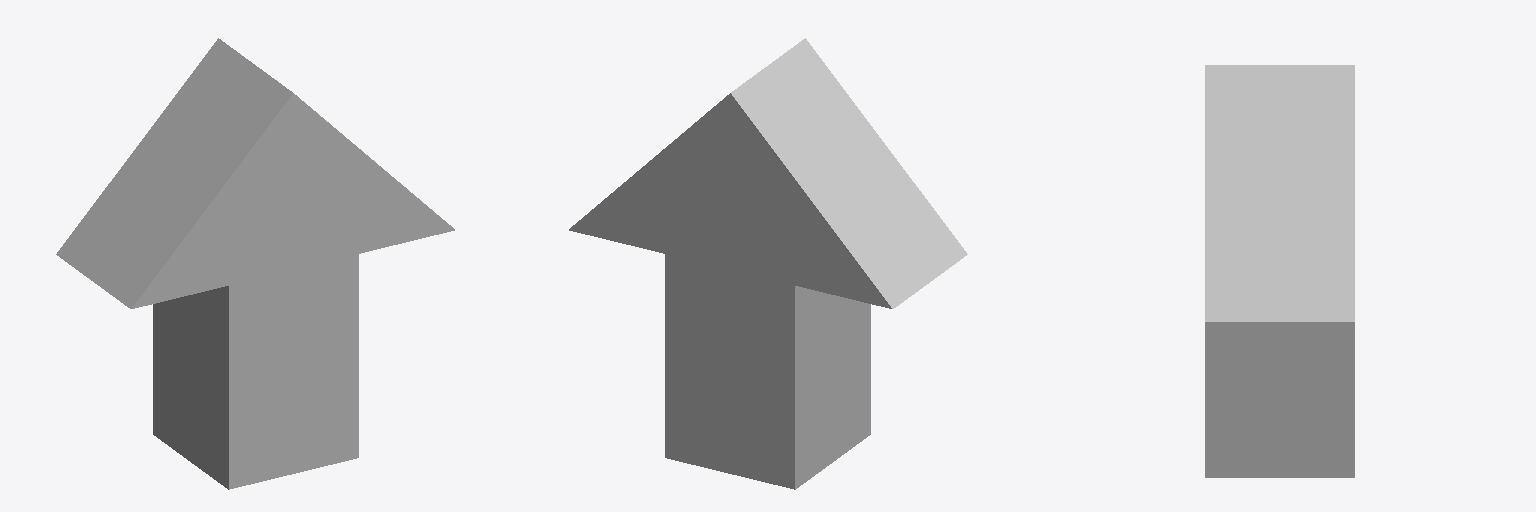
File: upvote_narrow.obj
3 views of the same model, side by side, from view 1: azimuth 30°, elevation 25°; view 2: azimuth 150°, elevation 25°; view 3: azimuth 270°, elevation 25° (orthographic).
Visible parts, largest first — view 1: pCube1; view 2: pCube1; view 3: pCube1.
Boxes of the visible parts, x1=… form: pCube1: x1=56, y1=38, x2=454, y2=489; pCube1: x1=569, y1=38, x2=967, y2=489; pCube1: x1=1205, y1=65, x2=1354, y2=477.
Size of the model in its own units: 5 by 5.6 by 2.